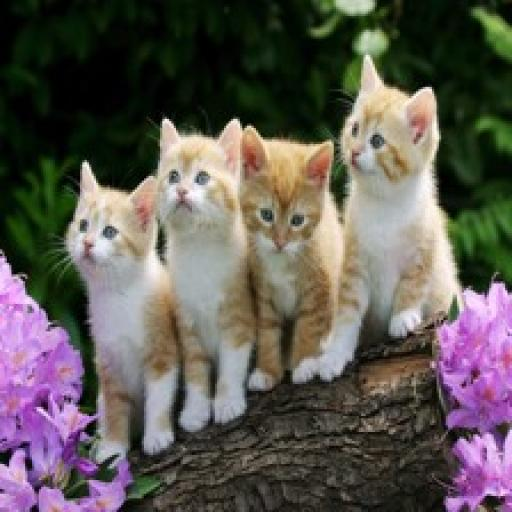cat: (64, 160, 182, 462), (328, 54, 454, 332), (160, 112, 258, 430), (248, 124, 344, 394)
